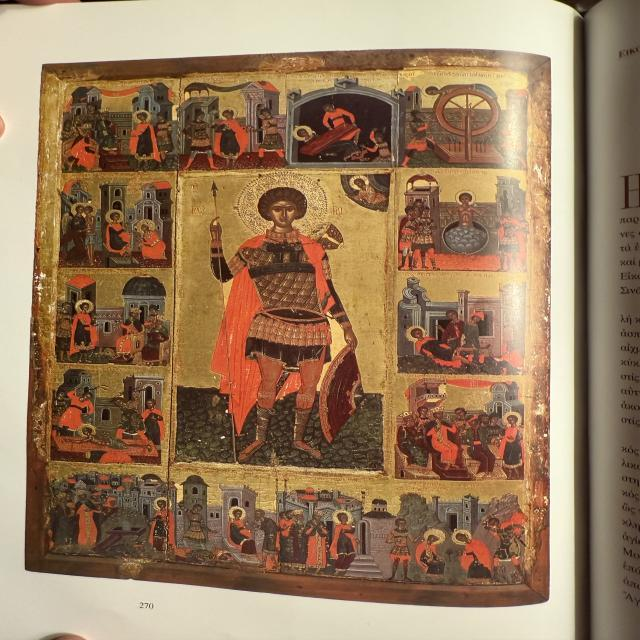aura: (238, 175, 330, 237), (137, 219, 161, 235), (424, 530, 446, 547), (453, 530, 473, 548), (133, 110, 155, 126), (294, 127, 316, 143), (458, 190, 478, 206), (154, 498, 175, 513), (229, 505, 247, 522), (107, 210, 126, 226), (335, 511, 355, 526), (77, 301, 97, 316), (408, 327, 426, 343), (219, 108, 239, 121), (79, 424, 97, 437), (72, 204, 88, 216)
crown: (312, 510, 330, 519), (95, 108, 115, 116), (292, 509, 307, 519), (82, 124, 94, 132)
shield: (318, 346, 371, 450)
spear: (206, 180, 252, 464)
st_george: (195, 174, 369, 466)
